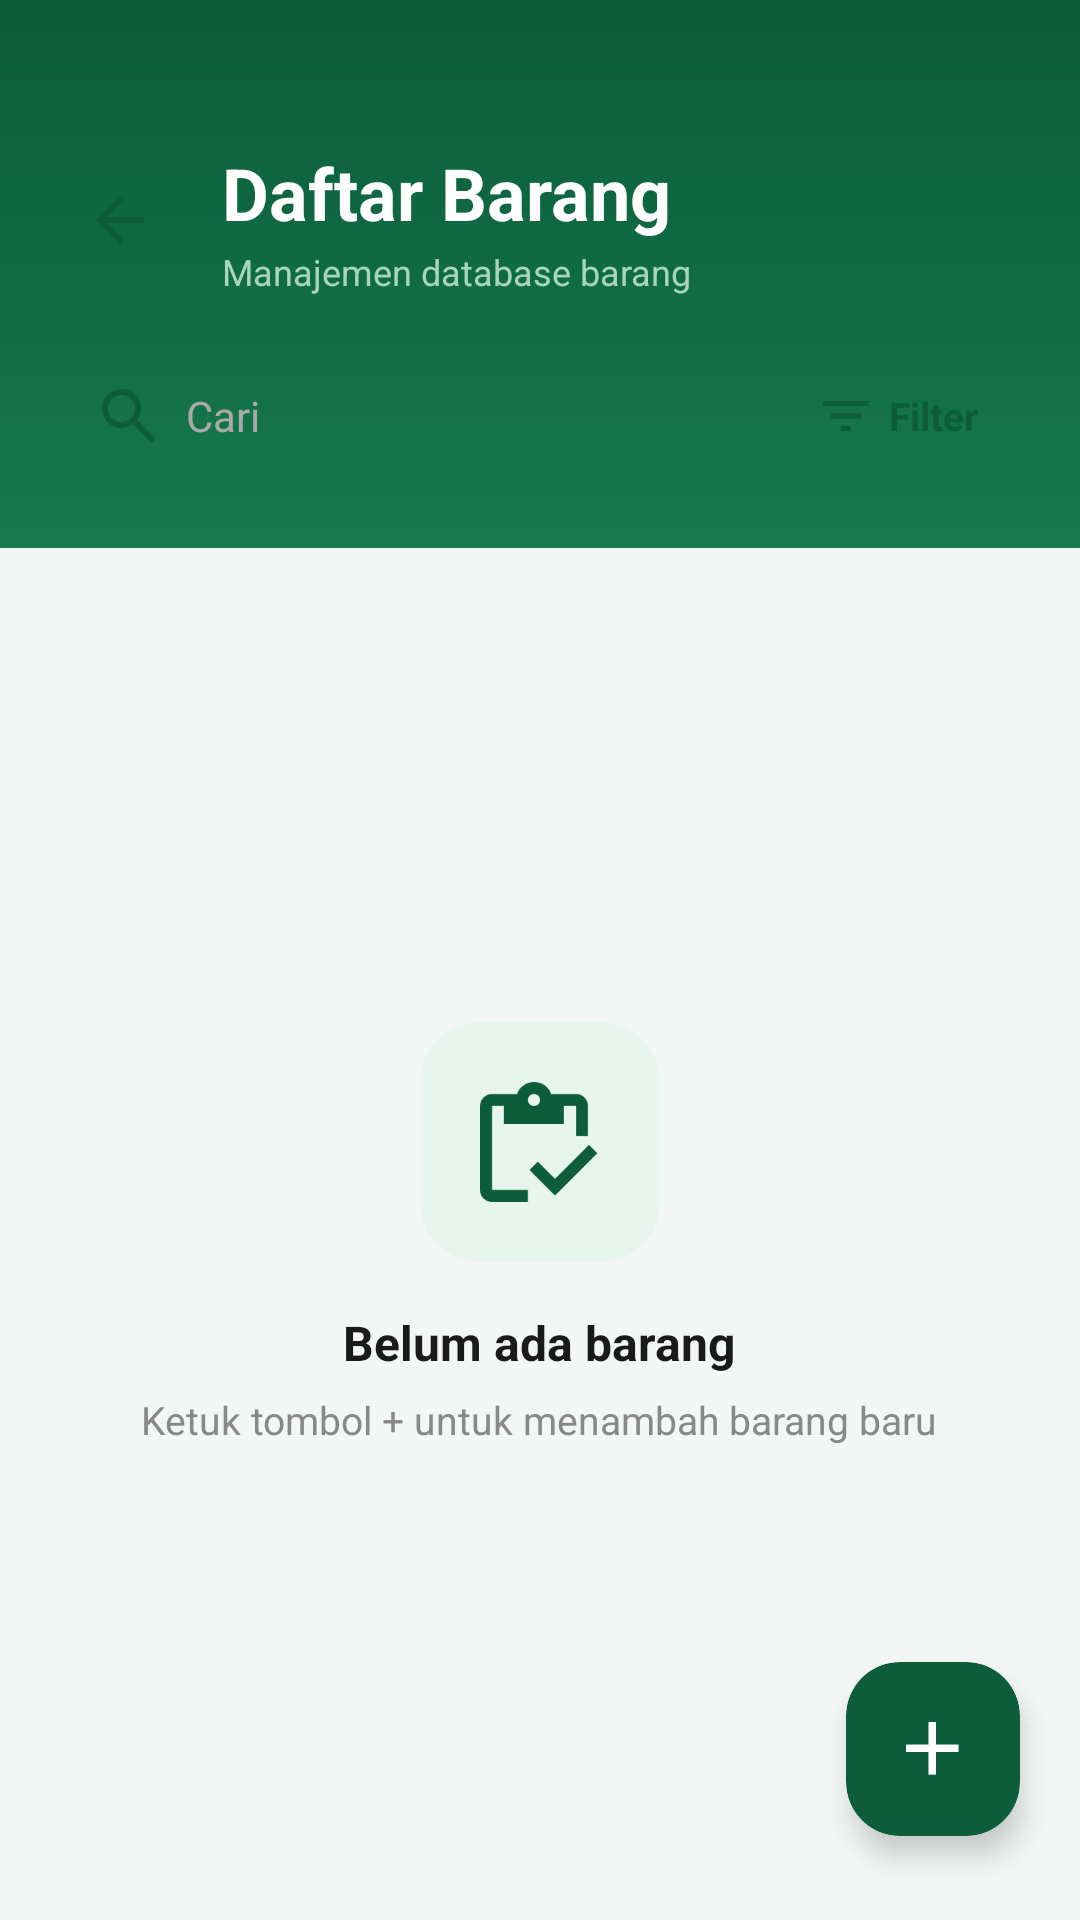

Where to tap for icons on this 1080×1920 app screen, as point (x, y):
Tambah Barang: point (932, 1748)
